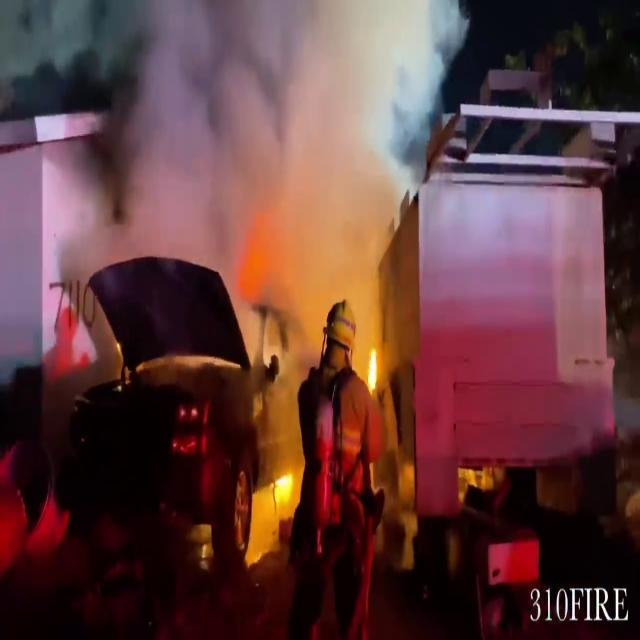Fire: (263, 458, 305, 517), (350, 334, 388, 397)
Smoke: (44, 0, 459, 253)
